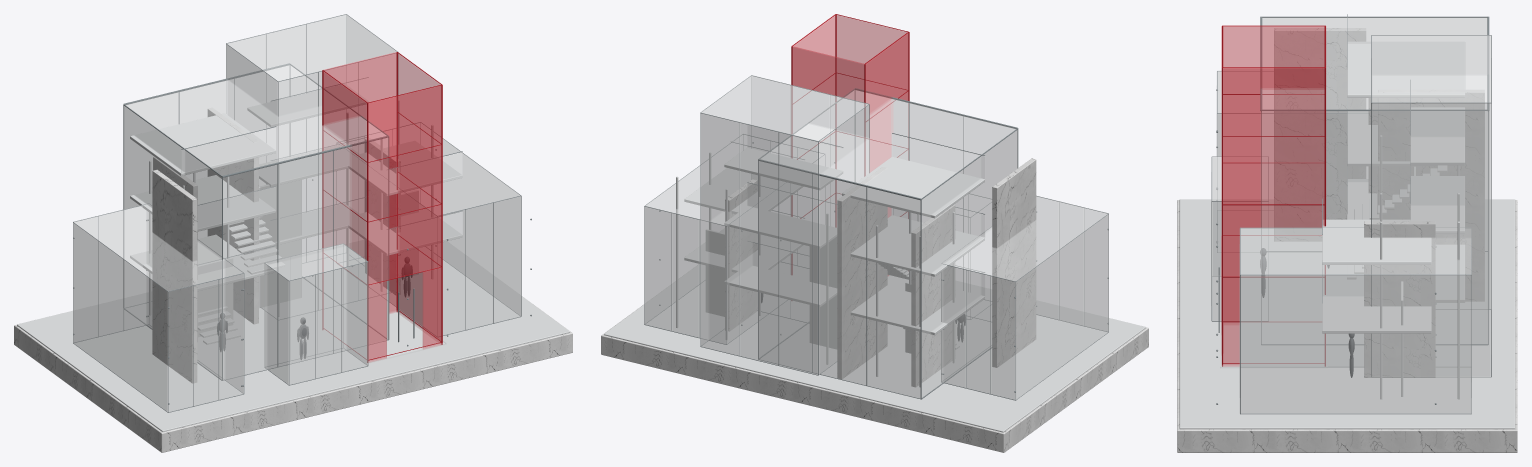
Rendered from SITE00_Build_Object_Astra_V1_Web.glb.
The picture shows the model from 3 angles, left to right: view 1: azimuth 30°, elevation 25°; view 2: azimuth 150°, elevation 25°; view 3: azimuth 270°, elevation 25°; orthographic projection. The views are drawn at different scales.
Visible parts, largest first — view 1: Polished upper lip, Central atrium roof, Portal upper transom, Continuous marble foundation, West low gallery left glass, Portal thick acrylic blade.001, Central atrium front pane 1, Central atrium left glass, Central atrium front pane 0, Veined vertical fin 00, Central atrium front pane 2, East stepped gallery right glass (+54 smaller); view 2: Polished upper lip, Central atrium left glass, Central atrium roof, Continuous marble foundation, West low gallery left glass, Central atrium back pane 0, Central atrium back pane 1, Central atrium back pane 2, Rear lantern back pane 0, Rear lantern back pane 2, Rear lantern back pane 1, Veined vertical fin 00 (+42 smaller); view 3: Polished upper lip, East stepped gallery right glass, Rear lantern right glass, Central atrium right glass, Portal thick acrylic blade.001, Veined vertical fin 00, Central atrium roof, East stepped gallery left glass, Portal thick acrylic blade, East stepped gallery roof, Continuous marble foundation, Veined vertical fin 02 (+24 smaller).
Boxes of the visible parts, <box> form: Polished upper lip: <box>17,240,569,431</box>; Central atrium roof: <box>125,65,386,175</box>; Portal upper transom: <box>368,85,441,284</box>; Continuous marble foundation: <box>14,296,572,452</box>; West low gallery left glass: <box>73,223,167,411</box>; Portal thick acrylic blade.001: <box>396,53,442,341</box>; Central atrium front pane 1: <box>278,151,332,366</box>; Central atrium left glass: <box>124,106,221,378</box>; Central atrium front pane 0: <box>223,165,277,379</box>; Veined vertical fin 00: <box>152,169,197,383</box>; Central atrium front pane 2: <box>334,138,388,352</box>; East stepped gallery right glass: <box>443,139,520,315</box>; Polished upper lip: <box>604,245,1145,432</box>; Central atrium left glass: <box>922,130,1017,397</box>; Central atrium roof: <box>761,90,1016,198</box>; Continuous marble foundation: <box>601,304,1148,452</box>; West low gallery left glass: <box>1016,214,1108,399</box>; Central atrium back pane 0: <box>867,187,920,398</box>; Central atrium back pane 1: <box>813,174,866,385</box>; Central atrium back pane 2: <box>759,161,811,371</box>; Rear lantern back pane 0: <box>779,132,817,374</box>; Rear lantern back pane 2: <box>701,113,739,355</box>; Rear lantern back pane 1: <box>740,123,778,365</box>; Veined vertical fin 00: <box>992,158,1036,367</box>; Polished upper lip: <box>1179,199,1515,429</box>; East stepped gallery right glass: <box>1241,275,1470,413</box>; Rear lantern right glass: <box>1372,103,1490,376</box>; Central atrium right glass: <box>1262,111,1487,343</box>; Portal thick acrylic blade.001: <box>1222,68,1324,366</box>; Veined vertical fin 00: <box>1274,28,1365,241</box>; Central atrium roof: <box>1262,17,1486,109</box>; East stepped gallery left glass: <box>1241,228,1363,366</box>; Portal thick acrylic blade: <box>1223,26,1324,321</box>; East stepped gallery roof: <box>1240,228,1470,274</box>; Continuous marble foundation: <box>1177,200,1517,452</box>; Veined vertical fin 02: <box>1378,90,1484,301</box>.
Size of the model in its own units: 13 by 8.56 by 8.1.
7 materials, 1 textured.
